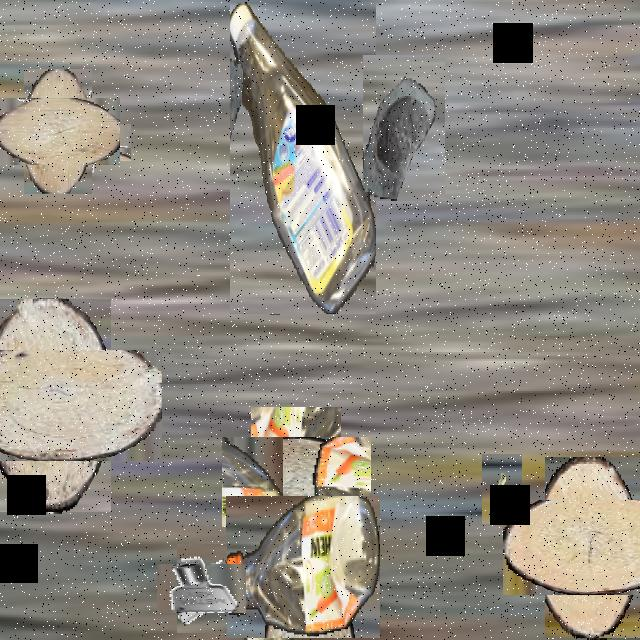glass: (363, 55, 445, 201)
metal: (167, 554, 237, 623), (70, 116, 124, 168), (482, 454, 522, 524)
plastic: (230, 2, 376, 314), (226, 496, 380, 638)
wood: (0, 324, 136, 486), (523, 478, 640, 616), (236, 422, 356, 542), (10, 83, 106, 180)
